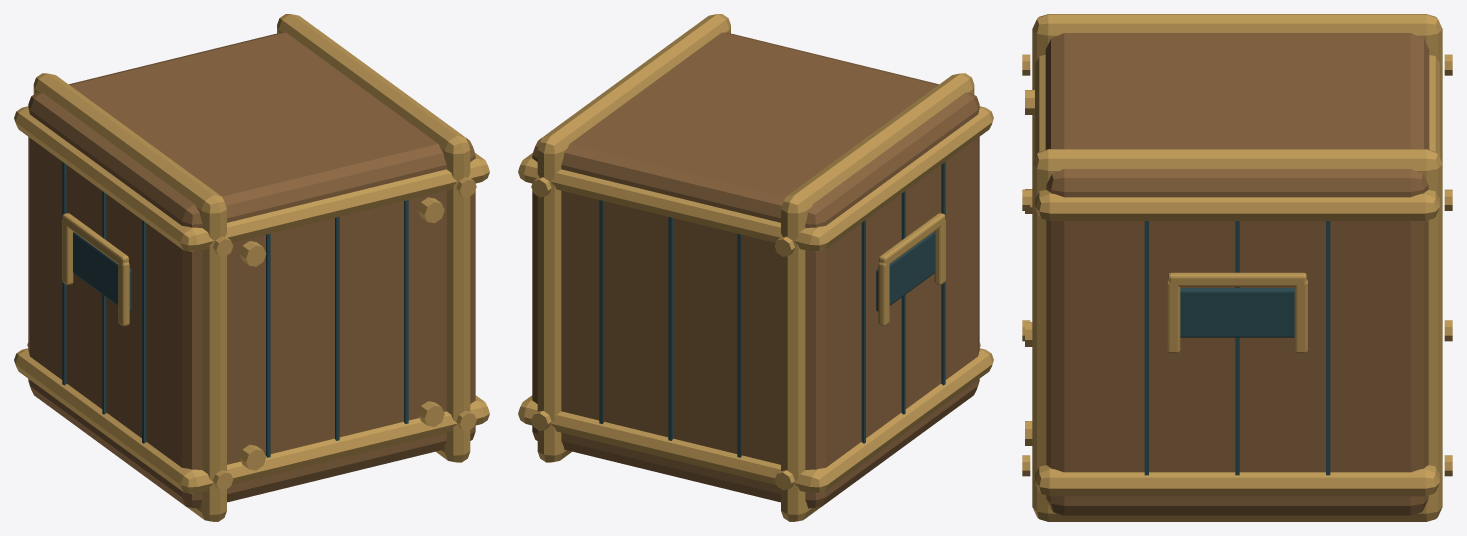
The model's file is crate.fbx.
3 views of the same model, side by side, from view 1: azimuth 30°, elevation 25°; view 2: azimuth 150°, elevation 25°; view 3: azimuth 270°, elevation 25° (orthographic). The views are drawn at different scales.
Visible parts, largest first — view 1: Wooden body, crate_Aged brass, crate_Midnight teal; view 2: Wooden body, crate_Aged brass, crate_Midnight teal; view 3: Wooden body, crate_Aged brass, crate_Midnight teal.
Boxes of the visible parts, x1,y1,x2,y2 form: Wooden body: (28,32,475,508); crate_Aged brass: (14,14,489,521); crate_Midnight teal: (62,162,408,457); Wooden body: (532,32,979,508); crate_Aged brass: (518,14,993,521); crate_Midnight teal: (599,162,945,457); Wooden body: (1045,33,1429,515); crate_Aged brass: (1022,14,1452,521); crate_Midnight teal: (1144,221,1330,475).
Size of the model in its own units: 78.8 by 77 by 80.8.
